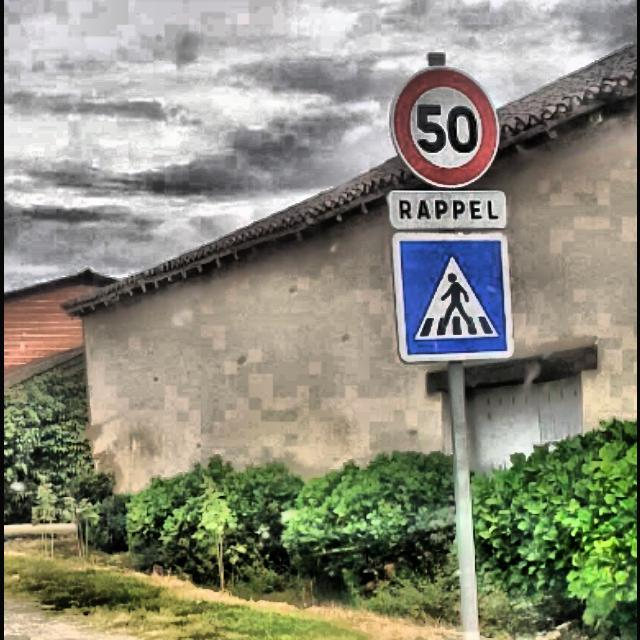speed_50: (392, 64, 502, 190)
